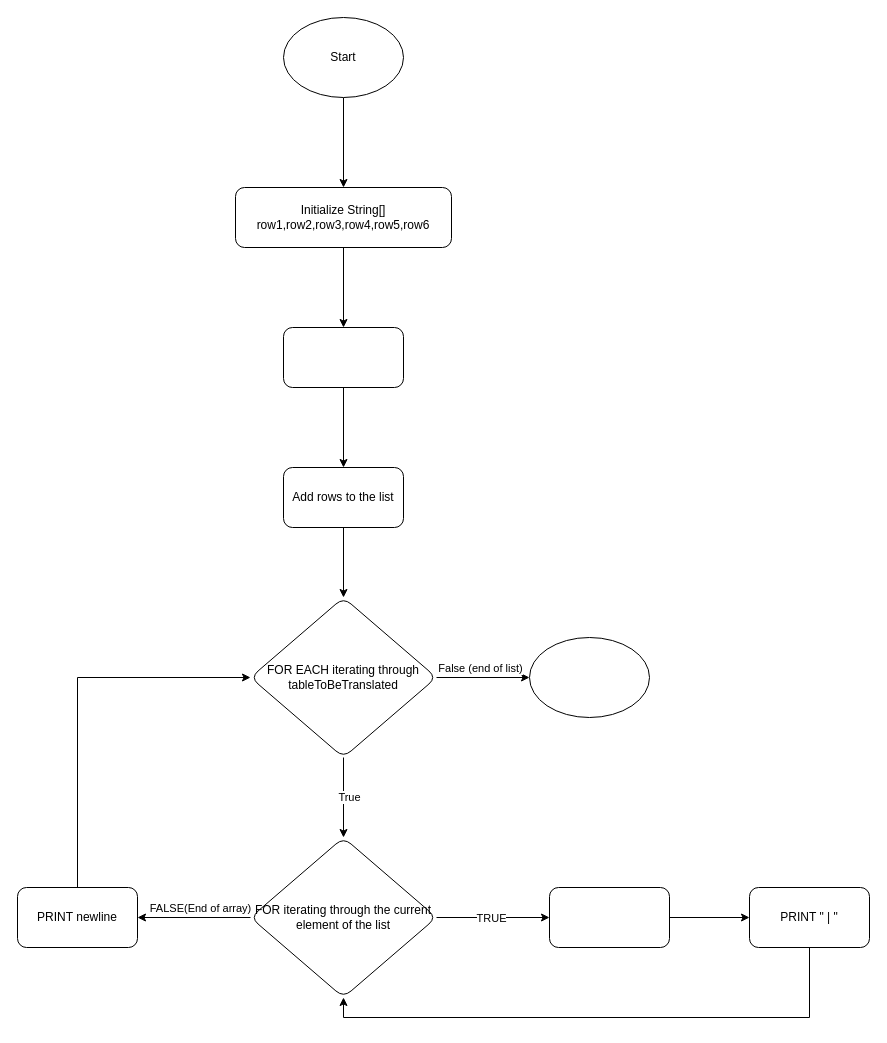
The diagram is 887 pixels wide and 1043 high, and some of its shapes have lost their labels. The centre of each missing label's shape, as x and y in pixels:
"End" belongs at point (589, 677).
"Initialize ArrayList tableToBeTranslated" belongs at point (343, 357).
"PRINT current element of row at current index" belongs at point (609, 917).
